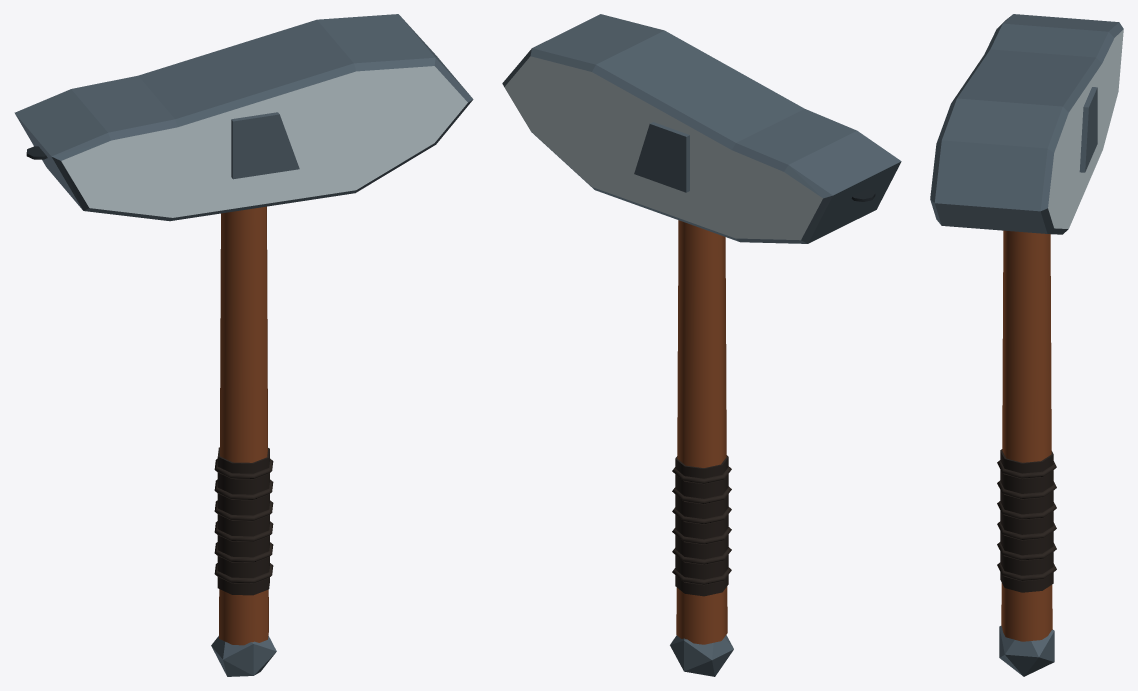
File: stylized_hammer.glb
3 views of the same model, side by side, from view 1: azimuth 30°, elevation 25°; view 2: azimuth 150°, elevation 25°; view 3: azimuth 270°, elevation 25° (orthographic). The views are drawn at different scales.
Visible parts, largest first — view 1: Faceted_Steel_Head, Wooden_Handle, Leather_Grip, Head_Center_Ridge_Front, Metal_Pommel; view 2: Faceted_Steel_Head, Wooden_Handle, Leather_Grip, Head_Center_Ridge_Back, Metal_Pommel; view 3: Faceted_Steel_Head, Wooden_Handle, Leather_Grip, Metal_Pommel, Head_Center_Ridge_Back, Grip_Wrap_1, Grip_Wrap_3, Grip_Wrap_5, Grip_Wrap_2, Grip_Wrap_4, Grip_Wrap_6.
Boxes of the visible parts, box(x1,y1,x2,y2) form: Faceted_Steel_Head: box(14, 14, 473, 221); Wooden_Handle: box(219, 206, 268, 645); Leather_Grip: box(217, 447, 269, 595); Head_Center_Ridge_Front: box(231, 112, 299, 179); Metal_Pommel: box(211, 635, 276, 676); Faceted_Steel_Head: box(502, 14, 901, 243); Wooden_Handle: box(676, 220, 727, 644); Leather_Grip: box(675, 455, 728, 596); Head_Center_Ridge_Back: box(634, 122, 689, 192); Metal_Pommel: box(670, 635, 733, 676); Faceted_Steel_Head: box(930, 14, 1123, 234); Wooden_Handle: box(1001, 230, 1052, 641); Leather_Grip: box(1000, 449, 1053, 592); Metal_Pommel: box(999, 626, 1054, 676); Head_Center_Ridge_Back: box(1079, 87, 1097, 172); Grip_Wrap_1: box(997, 562, 1056, 581); Grip_Wrap_3: box(997, 521, 1056, 540); Grip_Wrap_5: box(997, 480, 1056, 499); Grip_Wrap_2: box(997, 542, 1056, 560); Grip_Wrap_4: box(997, 501, 1056, 519); Grip_Wrap_6: box(997, 460, 1056, 479).
Size of the model in its own units: 2.6 by 3.86 by 1.12.
